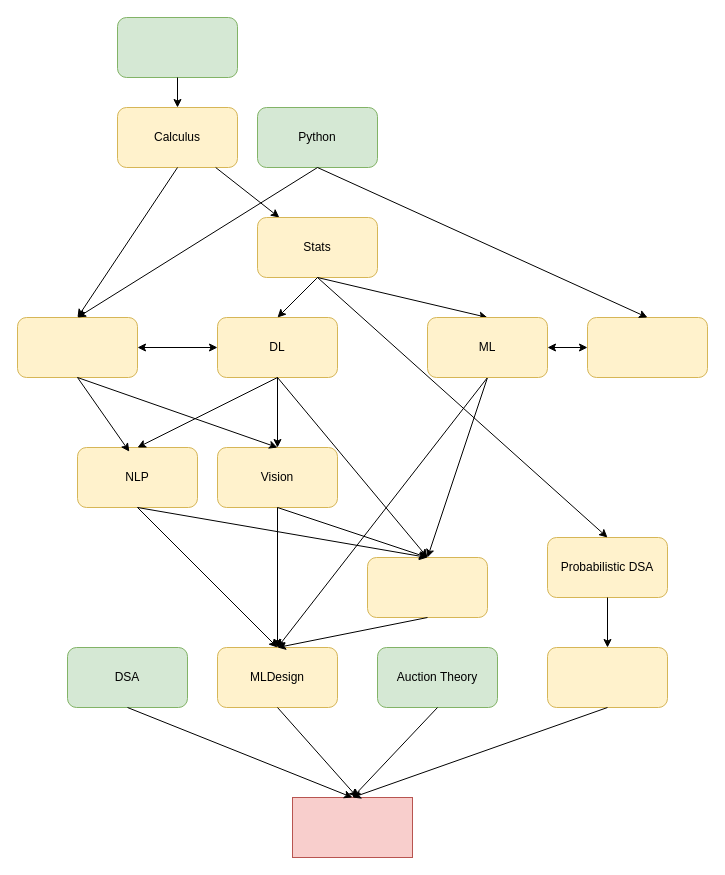
The diagram is 725 pixels wide and 875 high, and some of its shapes have lost their labels. The shapes that lost their labels are listed below. From the top down, each one's centre as x and y in pixels, then its label:
pixel 177 47: Linear Algebra
pixel 77 347: PyTorch
pixel 647 347: Sklearn
pixel 427 587: RecSys
pixel 607 677: SysDesign
pixel 352 827: Interview
